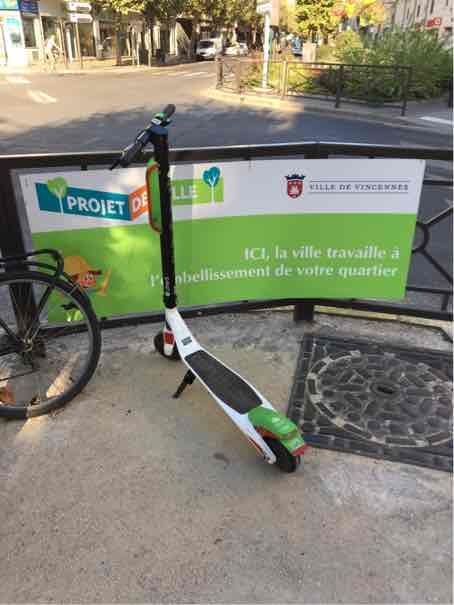scooter: (117, 92, 318, 484)
